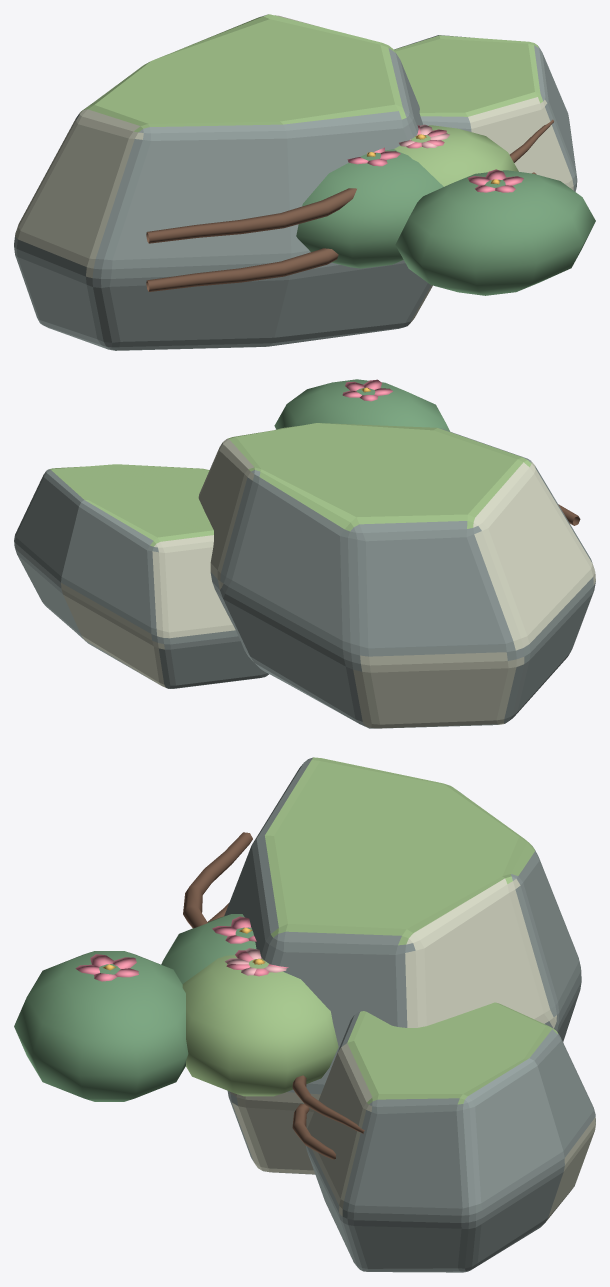
File: heaven_wall.glb
The picture shows the model from 3 angles, top to bottom: view 1: azimuth 30°, elevation 25°; view 2: azimuth 150°, elevation 25°; view 3: azimuth 270°, elevation 25°; orthographic projection. The views are drawn at different scales.
Visible parts, largest first — view 1: Merged Garden slate stone, Merged Orchard moss tips, Merged Orchard sage grass, Merged Worn ivory stepping stone, Merged Orchard exposed earth, Merged Coral blush blossom; view 2: Merged Garden slate stone, Merged Worn ivory stepping stone, Merged Orchard moss tips, Merged Orchard sage grass, Merged Coral blush blossom; view 3: Merged Orchard moss tips, Merged Garden slate stone, Merged Worn ivory stepping stone, Merged Orchard sage grass, Merged Orchard exposed earth, Merged Coral blush blossom.
Part boxes in pixels (<box>): Merged Garden slate stone: <box>14,14,577,350</box>; Merged Orchard moss tips: <box>80,14,542,186</box>; Merged Orchard sage grass: <box>296,149,595,295</box>; Merged Worn ivory stepping stone: <box>15,15,573,325</box>; Merged Orchard exposed earth: <box>146,119,553,291</box>; Merged Coral blush blossom: <box>347,125,523,192</box>; Merged Garden slate stone: <box>14,428,595,728</box>; Merged Worn ivory stepping stone: <box>61,439,595,728</box>; Merged Orchard moss tips: <box>49,423,531,546</box>; Merged Orchard sage grass: <box>274,379,449,431</box>; Merged Coral blush blossom: <box>342,379,392,401</box>; Merged Orchard moss tips: <box>182,757,557,1104</box>; Merged Garden slate stone: <box>224,757,595,1272</box>; Merged Worn ivory stepping stone: <box>230,878,595,1222</box>; Merged Orchard sage grass: <box>14,914,256,1101</box>; Merged Orchard exposed earth: <box>183,832,364,1159</box>; Merged Coral blush blossom: <box>75,916,288,981</box>.
Bounding box in the file's own units: 1.83 × 0.762 × 1.43.
